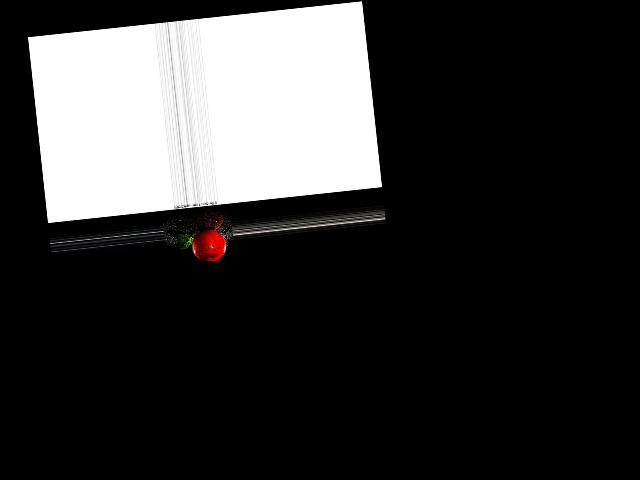tomato: (190, 228, 227, 263)
